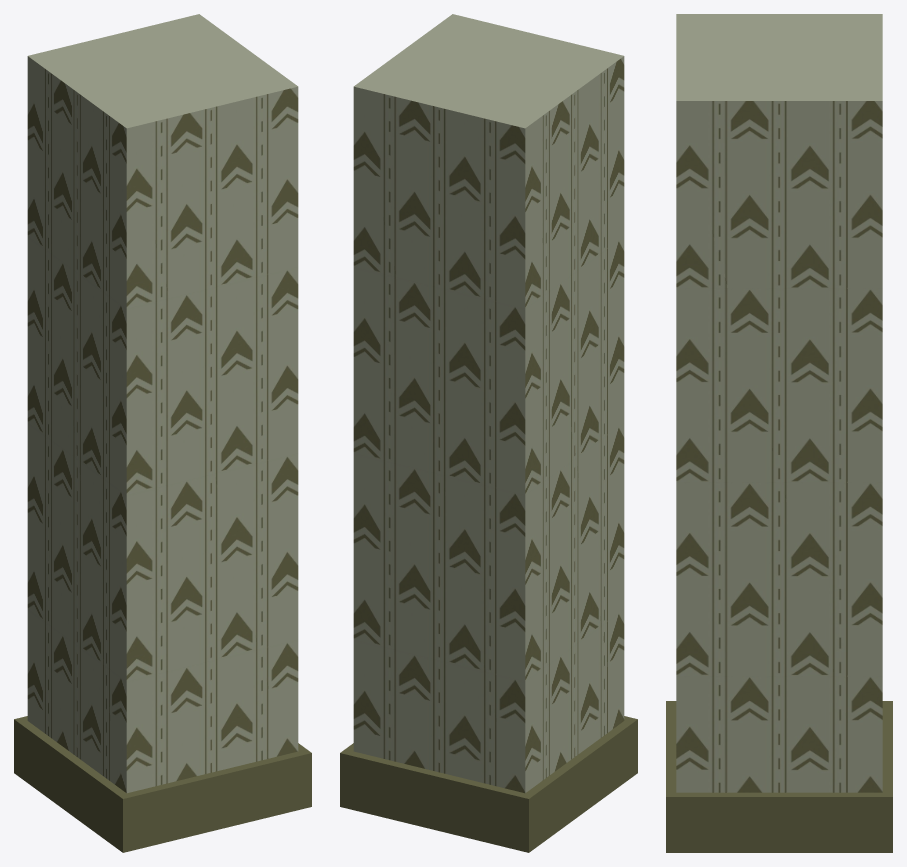
The model's file is collumn_3.fbx.
3 views of the same model, side by side, from view 1: azimuth 30°, elevation 25°; view 2: azimuth 150°, elevation 25°; view 3: azimuth 270°, elevation 25° (orthographic). The views are drawn at different scales.
Parts seen in each view (by area): view 1: Cube.005; view 2: Cube.005; view 3: Cube.005.
Boxes of the visible parts, x1,y1,x2,y2 form: Cube.005: [14, 14, 311, 852]; Cube.005: [340, 14, 637, 852]; Cube.005: [666, 14, 892, 852].
Size of the model in its own units: 220 by 800 by 220.
